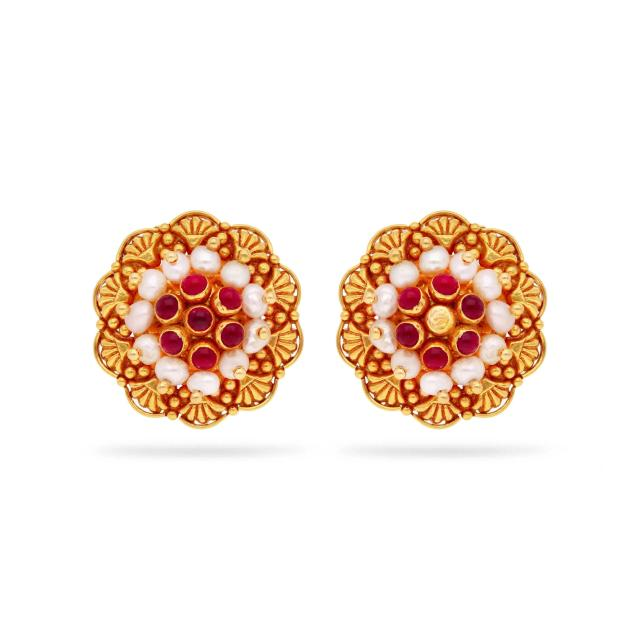missing gem: (426, 306, 453, 334)
